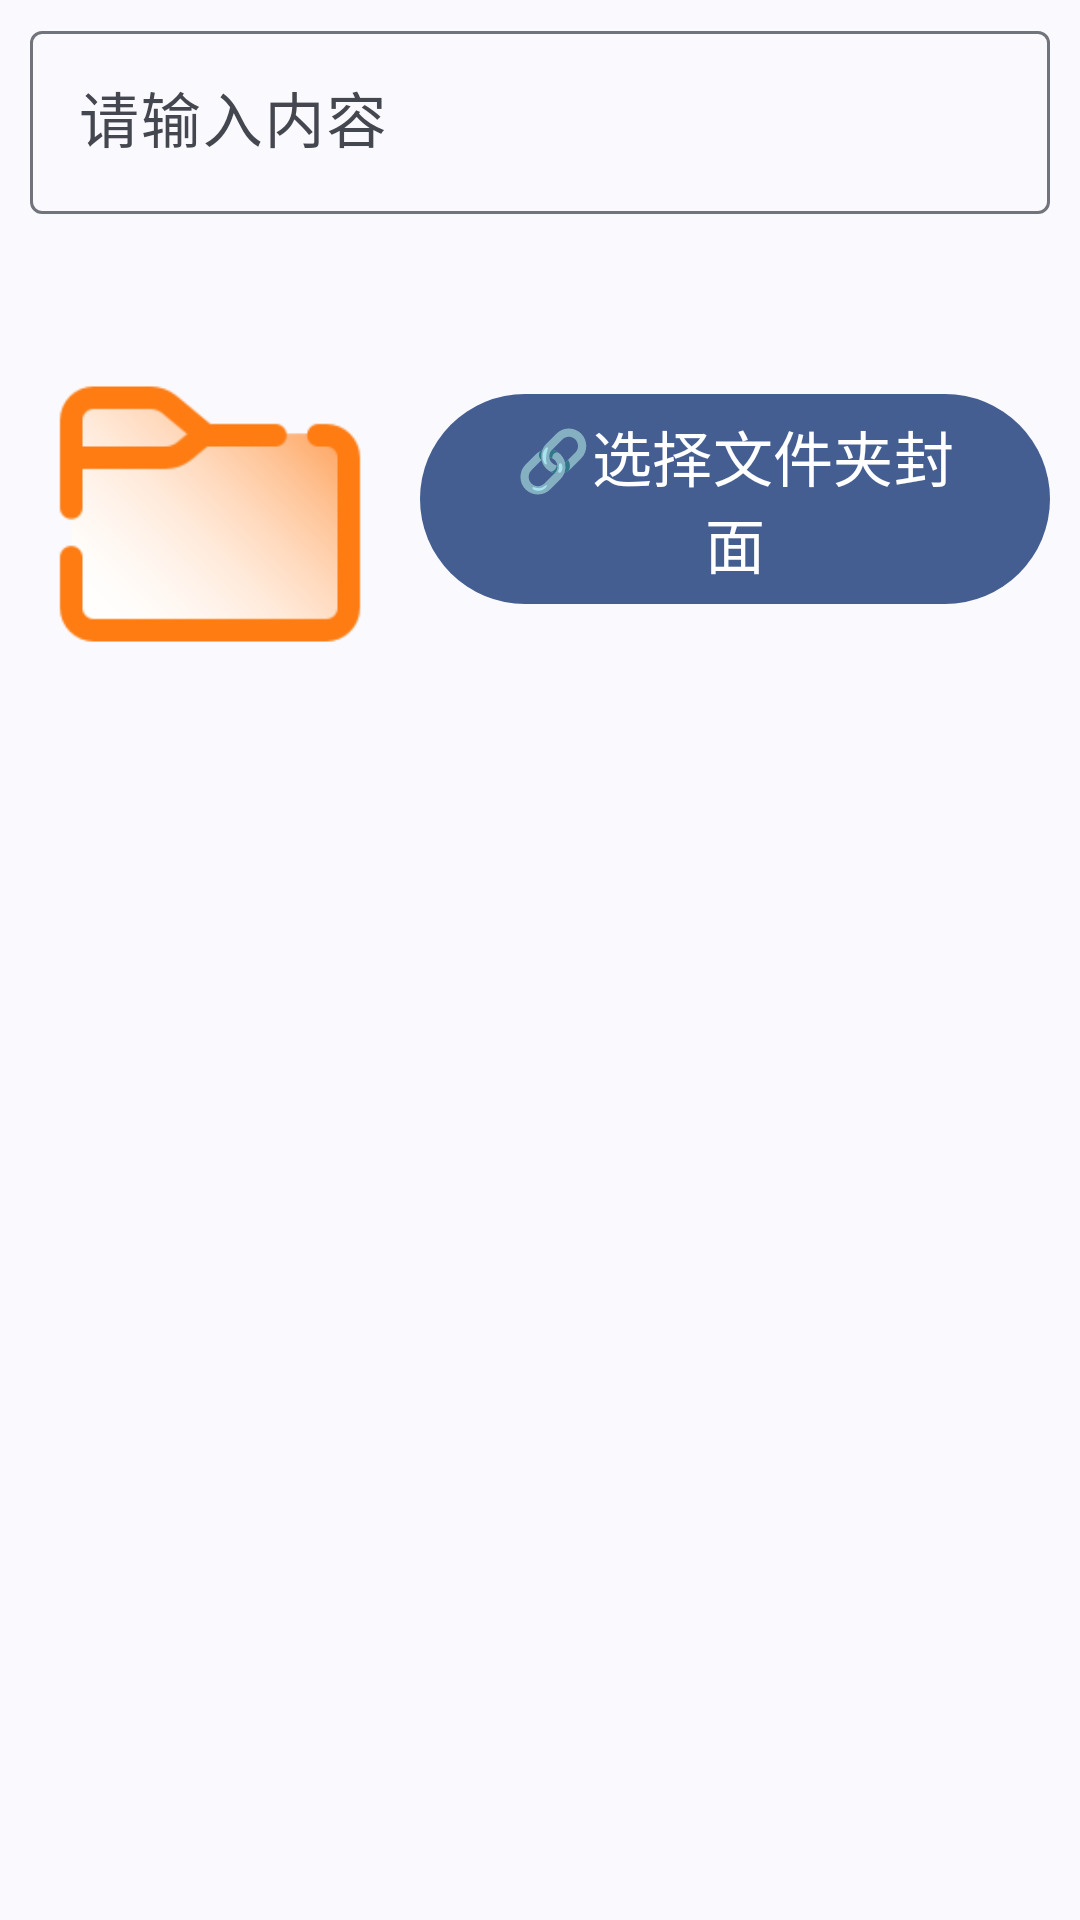

Icons on this 1080x1920 Android screen, each with its box as (x1, y1, x2, y2):
folder: (59, 386, 361, 642)
